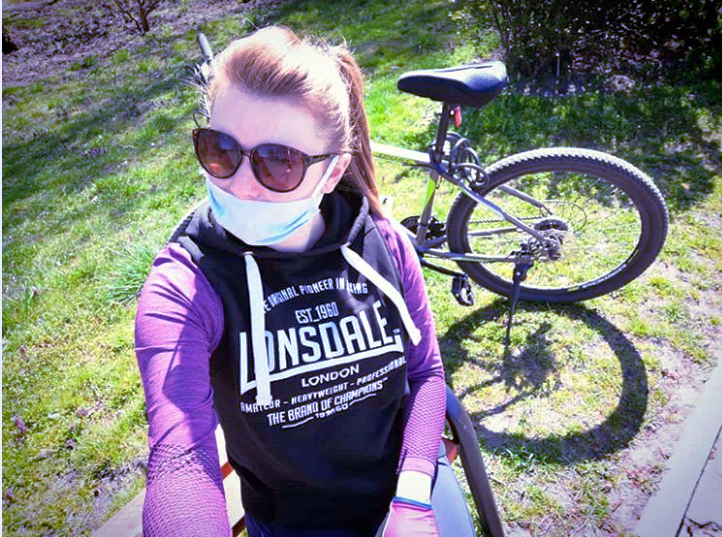mask_weared_incorrect: (188, 30, 360, 249)
